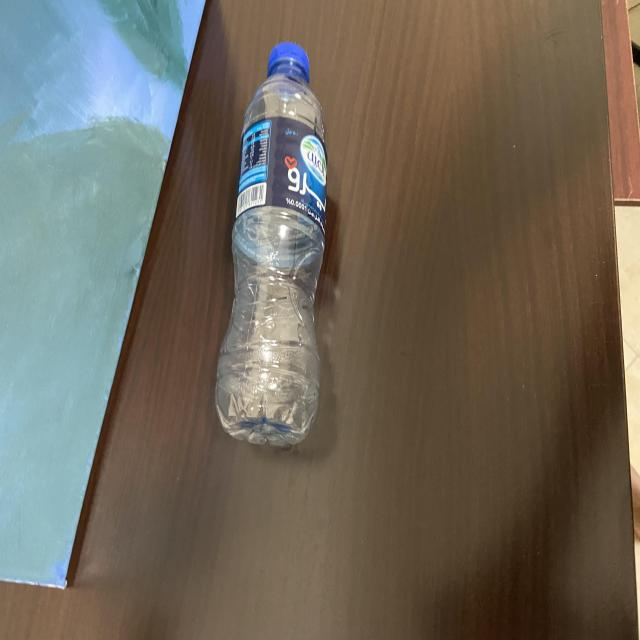plastic: (213, 36, 331, 451)
